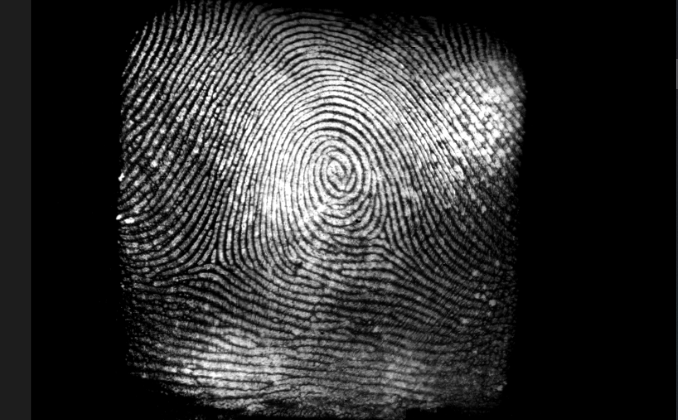deltas: (186, 230, 240, 285), (351, 209, 412, 257)
nucleo: (308, 144, 364, 199)
